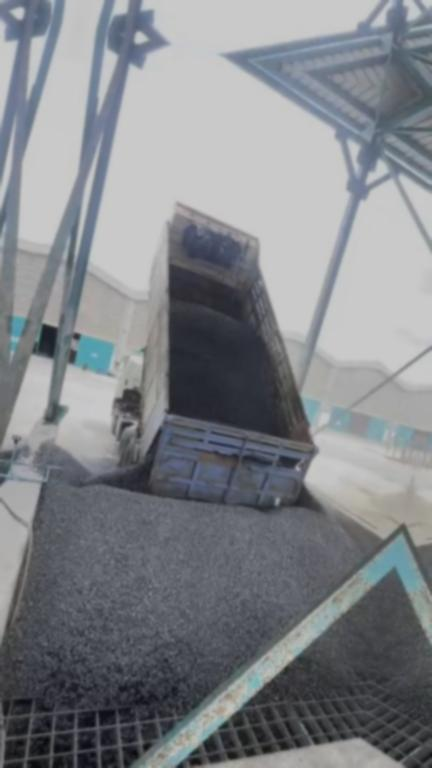gravel: (0, 436, 377, 710), (268, 574, 393, 699), (173, 302, 274, 433)
sand: (335, 480, 410, 537)
